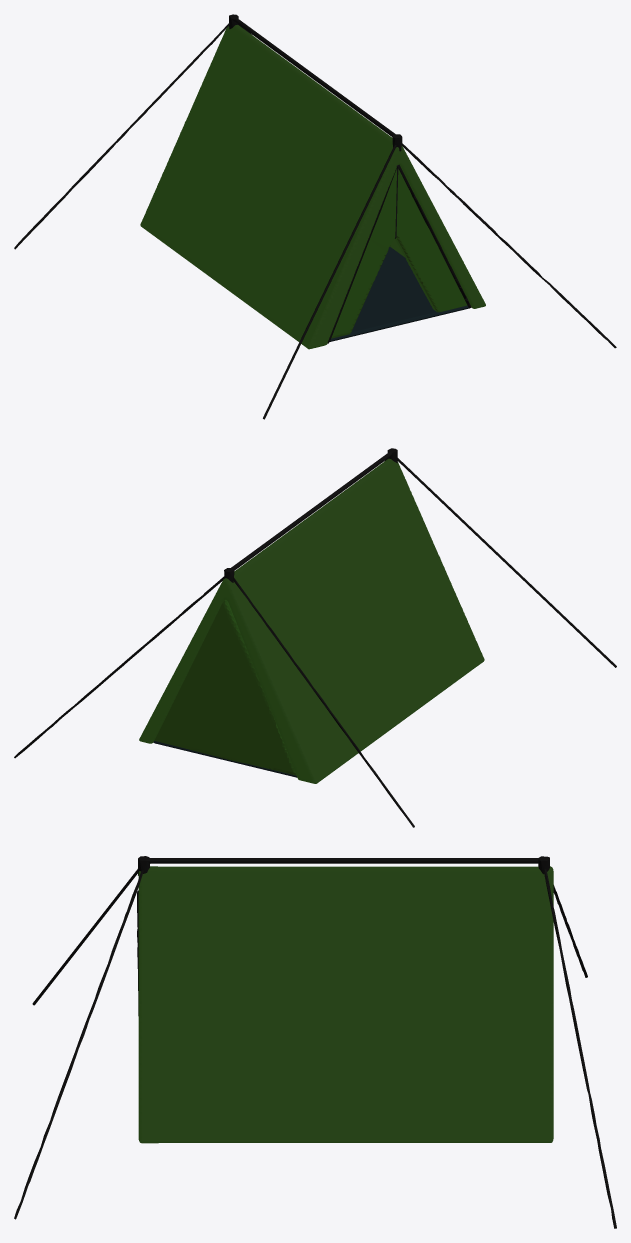
Rendered from Zelt2.fbx.
3 renders of one model, top to bottom at view 1: azimuth 30°, elevation 25°; view 2: azimuth 150°, elevation 25°; view 3: azimuth 270°, elevation 25°, orthographic. The views are drawn at different scales.
Visible parts, largest first — view 1: instance_mesh_2, instance_mesh_1, instance_mesh_3, instance_mesh_6, instance_mesh, instance_mesh_5; view 2: instance_mesh_2, instance_mesh_1, instance_mesh_6, instance_mesh_5; view 3: instance_mesh_2, instance_mesh_6, instance_mesh_5.
Boxes of the visible parts, x1,y1,x2,y2 form: instance_mesh_2: (140, 25, 485, 349); instance_mesh_1: (331, 166, 466, 338); instance_mesh_3: (330, 247, 469, 341); instance_mesh_6: (14, 14, 616, 348); instance_mesh: (327, 164, 471, 343); instance_mesh_5: (263, 145, 396, 419); instance_mesh_2: (139, 458, 484, 783); instance_mesh_1: (154, 600, 296, 775); instance_mesh_6: (14, 448, 414, 827); instance_mesh_5: (397, 458, 616, 667); instance_mesh_2: (138, 866, 553, 1143); instance_mesh_6: (14, 856, 616, 1228); instance_mesh_5: (32, 869, 137, 1005).
Bounding box in the file's own units: 0.3434 × 0.1812 × 0.3771.
